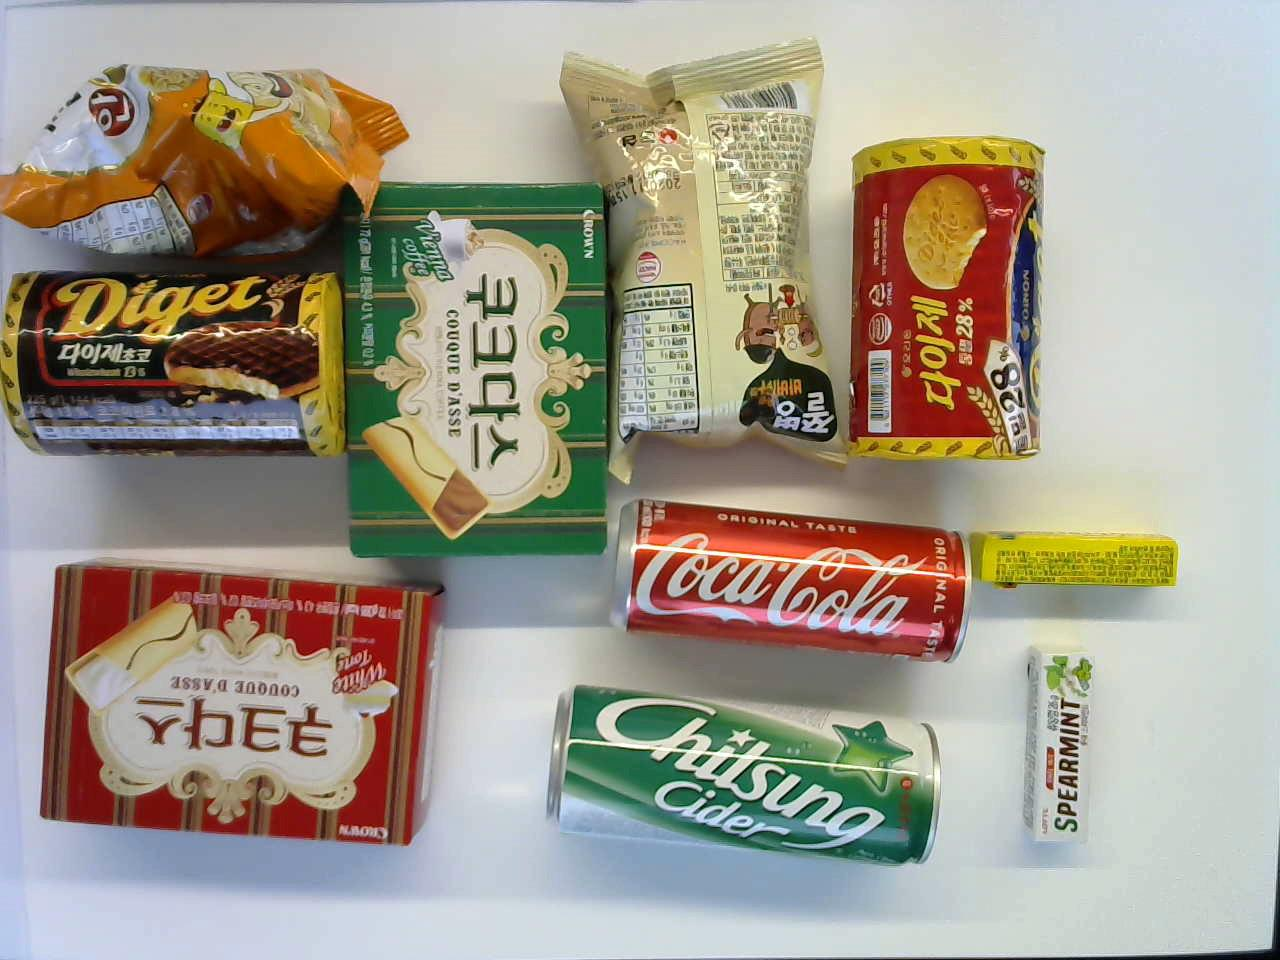cidar: (544, 683, 944, 871)
coke: (606, 497, 973, 663)
couque_coffee: (348, 179, 610, 560)
couque_white: (34, 556, 446, 850)
diget_choco: (2, 269, 351, 468)
diget_ori: (848, 139, 1046, 459)
jjolbyung_noodle: (0, 62, 410, 260)
jjolbyung_ori: (557, 37, 848, 483)
juicyfresh: (968, 527, 1180, 585)
spearmint: (1019, 645, 1094, 845)
